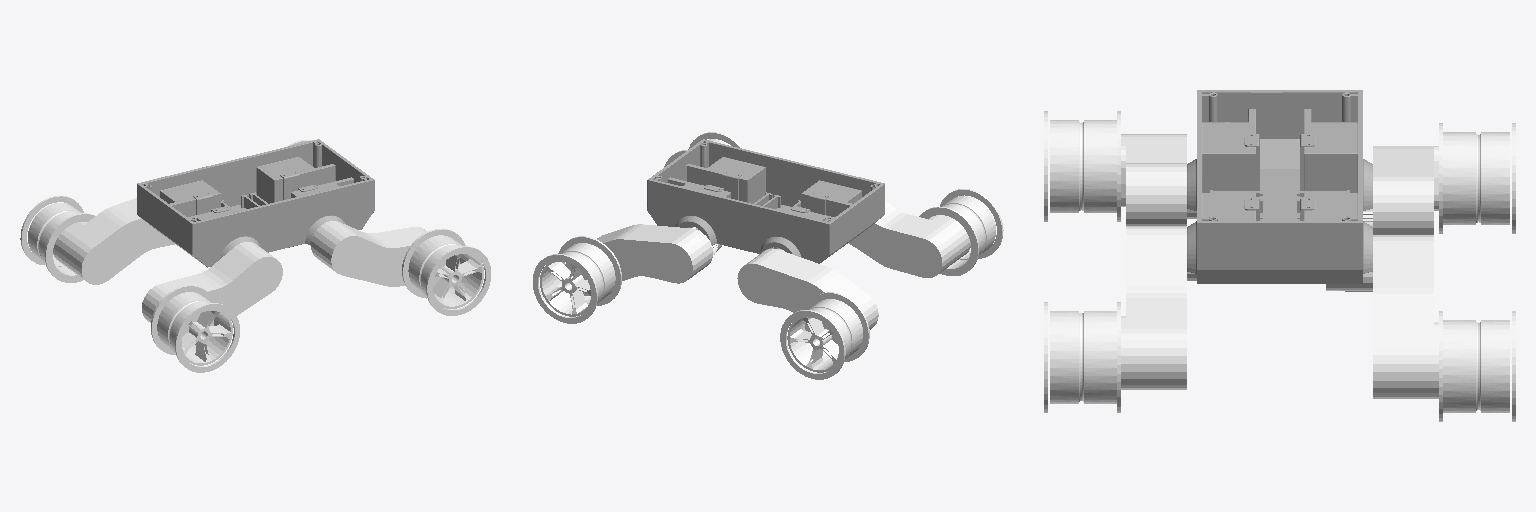
URDF robot description (Rover_5_URDF_MESHES.SLDASM):
<?xml version="1.0" encoding="utf-8"?>
<!-- This URDF was automatically created by SolidWorks to URDF Exporter! Originally created by [author] ([email redacted]) 
     Commit Version: 1.6.0-4-g7f85cfe  Build Version: 1.6.7995.38578
     For more information, please see http://wiki.ros.org/sw_urdf_exporter -->
<robot
  name="Rover_5_URDF_MESHES.SLDASM">
  <link
    name="base_link">
    <inertial>
      <origin
        xyz="0.00042066 0.025289 1.275E-07"
        rpy="0 0 0" />
      <mass
        value="0.23083" />
      <inertia
        ixx="0.00023965"
        ixy="1.2352E-06"
        ixz="2.1236E-09"
        iyy="0.00082819"
        iyz="-2.1159E-10"
        izz="0.0006395" />
    </inertial>
    <visual>
      <origin
        xyz="0 0 0"
        rpy="0 0 0" />
      <geometry>
        <mesh
          filename="package://Rover_5_URDF_MESHES.SLDASM/meshes/base_link.STL" />
      </geometry>
      <material
        name="">
        <color
          rgba="0.75294 0.75294 0.75294 1" />
      </material>
    </visual>
    <collision>
      <origin
        xyz="0 0 0"
        rpy="0 0 0" />
      <geometry>
        <mesh
          filename="package://Rover_5_URDF_MESHES.SLDASM/meshes/base_link.STL" />
      </geometry>
    </collision>
  </link>
  <link
    name="front_right_wheel_connector">
    <inertial>
      <origin
        xyz="-0.0414 -0.0024406 0.00050337"
        rpy="0 0 0" />
      <mass
        value="0.1526" />
      <inertia
        ixx="4.7307E-05"
        ixy="-3.6445E-07"
        ixz="3.0373E-05"
        iyy="0.00020097"
        iyz="1.8462E-07"
        izz="0.00018236" />
    </inertial>
    <visual>
      <origin
        xyz="0 0 0"
        rpy="0 0 0" />
      <geometry>
        <mesh
          filename="package://Rover_5_URDF_MESHES.SLDASM/meshes/front_right_wheel_connector.STL" />
      </geometry>
      <material
        name="">
        <color
          rgba="1 1 1 1" />
      </material>
    </visual>
    <collision>
      <origin
        xyz="0 0 0"
        rpy="0 0 0" />
      <geometry>
        <mesh
          filename="package://Rover_5_URDF_MESHES.SLDASM/meshes/front_right_wheel_connector.STL" />
      </geometry>
    </collision>
  </link>
  <joint
    name="base_link_to_right_wheel_connector"
    type="fixed">
    <origin
      xyz="-0.038432 0.0665 0.0015968"
      rpy="-1.5708 -0.2402 0" />
    <parent
      link="base_link" />
    <child
      link="front_right_wheel_connector" />
    <axis
      xyz="0 0 0" />
  </joint>
  <link
    name="front_right_wheel">
    <inertial>
      <origin
        xyz="3.6637E-11 2.8501E-11 -0.018857"
        rpy="0 0 0" />
      <mass
        value="0.016981" />
      <inertia
        ixx="6.6928E-06"
        ixy="1.5044E-14"
        ixz="2.1669E-14"
        iyy="6.6928E-06"
        iyz="-2.7239E-14"
        izz="9.0681E-06" />
    </inertial>
    <visual>
      <origin
        xyz="0 0 0"
        rpy="0 0 0" />
      <geometry>
        <mesh
          filename="package://Rover_5_URDF_MESHES.SLDASM/meshes/front_right_wheel.STL" />
      </geometry>
      <material
        name="">
        <color
          rgba="1 1 1 1" />
      </material>
    </visual>
    <collision>
      <origin
        xyz="0 0 0"
        rpy="0 0 0" />
      <geometry>
        <mesh
          filename="package://Rover_5_URDF_MESHES.SLDASM/meshes/front_right_wheel.STL" />
      </geometry>
    </collision>
  </link>
  <joint
    name="front_right_wheel_connector_to_front_right_wheel"
    type="continuous">
    <origin
      xyz="-0.08 0 0.0605"
      rpy="0 0 2.5298" />
    <parent
      link="front_right_wheel_connector" />
    <child
      link="front_right_wheel" />
    <axis
      xyz="0 0 0" />
  </joint>
  <link
    name="front_left_wheel_connector">
    <inertial>
      <origin
        xyz="-0.0414 -0.0024406 0.00050337"
        rpy="0 0 0" />
      <mass
        value="0.1526" />
      <inertia
        ixx="4.7307E-05"
        ixy="-3.6445E-07"
        ixz="3.0373E-05"
        iyy="0.00020097"
        iyz="1.8462E-07"
        izz="0.00018236" />
    </inertial>
    <visual>
      <origin
        xyz="0 0 0"
        rpy="0 0 0" />
      <geometry>
        <mesh
          filename="package://Rover_5_URDF_MESHES.SLDASM/meshes/front_left_wheel_connector.STL" />
      </geometry>
      <material
        name="">
        <color
          rgba="1 1 1 1" />
      </material>
    </visual>
    <collision>
      <origin
        xyz="0 0 0"
        rpy="0 0 0" />
      <geometry>
        <mesh
          filename="package://Rover_5_URDF_MESHES.SLDASM/meshes/front_left_wheel_connector.STL" />
      </geometry>
    </collision>
  </link>
  <joint
    name="base_link_to_front_left_wheel_connector"
    type="fixed">
    <origin
      xyz="-0.04 -0.0665 0.008"
      rpy="1.5708 -0.2402 0" />
    <parent
      link="base_link" />
    <child
      link="front_left_wheel_connector" />
    <axis
      xyz="0 0 0" />
  </joint>
  <link
    name="front_left_wheel">
    <inertial>
      <origin
        xyz="3.6637E-11 2.8501E-11 -0.018857"
        rpy="0 0 0" />
      <mass
        value="0.016981" />
      <inertia
        ixx="6.6928E-06"
        ixy="1.5044E-14"
        ixz="2.1669E-14"
        iyy="6.6928E-06"
        iyz="-2.7239E-14"
        izz="9.0681E-06" />
    </inertial>
    <visual>
      <origin
        xyz="0 0 0"
        rpy="0 0 0" />
      <geometry>
        <mesh
          filename="package://Rover_5_URDF_MESHES.SLDASM/meshes/front_left_wheel.STL" />
      </geometry>
      <material
        name="">
        <color
          rgba="1 1 1 1" />
      </material>
    </visual>
    <collision>
      <origin
        xyz="0 0 0"
        rpy="0 0 0" />
      <geometry>
        <mesh
          filename="package://Rover_5_URDF_MESHES.SLDASM/meshes/front_left_wheel.STL" />
      </geometry>
    </collision>
  </link>
  <joint
    name="front_left_wheel_connector_to_front_left_wheel"
    type="continuous">
    <origin
      xyz="-0.08 0 0.0605"
      rpy="0 0 3.0303" />
    <parent
      link="front_left_wheel_connector" />
    <child
      link="front_left_wheel" />
    <axis
      xyz="0 0 0" />
  </joint>
  <link
    name="back_right_wheel_connector">
    <inertial>
      <origin
        xyz="-0.0414 -0.0024406 -0.00050337"
        rpy="0 0 0" />
      <mass
        value="0.1526" />
      <inertia
        ixx="4.7307E-05"
        ixy="-3.6445E-07"
        ixz="-3.0373E-05"
        iyy="0.00020097"
        iyz="-1.8462E-07"
        izz="0.00018236" />
    </inertial>
    <visual>
      <origin
        xyz="0 0 0"
        rpy="0 0 0" />
      <geometry>
        <mesh
          filename="package://Rover_5_URDF_MESHES.SLDASM/meshes/back_right_wheel_connector.STL" />
      </geometry>
      <material
        name="">
        <color
          rgba="1 1 1 1" />
      </material>
    </visual>
    <collision>
      <origin
        xyz="0 0 0"
        rpy="0 0 0" />
      <geometry>
        <mesh
          filename="package://Rover_5_URDF_MESHES.SLDASM/meshes/back_right_wheel_connector.STL" />
      </geometry>
    </collision>
  </link>
  <joint
    name="base_link_to_back_right_wheel_connector"
    type="fixed">
    <origin
      xyz="0.038096 0.0665 0.0016884"
      rpy="-1.5708 -0.29297 3.1416" />
    <parent
      link="base_link" />
    <child
      link="back_right_wheel_connector" />
    <axis
      xyz="0 0 0" />
  </joint>
  <link
    name="back_right_wheel">
    <inertial>
      <origin
        xyz="3.6637E-11 2.8501E-11 -0.018857"
        rpy="0 0 0" />
      <mass
        value="0.016981" />
      <inertia
        ixx="6.6928E-06"
        ixy="1.5044E-14"
        ixz="2.1669E-14"
        iyy="6.6928E-06"
        iyz="-2.7239E-14"
        izz="9.0681E-06" />
    </inertial>
    <visual>
      <origin
        xyz="0 0 0"
        rpy="0 0 0" />
      <geometry>
        <mesh
          filename="package://Rover_5_URDF_MESHES.SLDASM/meshes/back_right_wheel.STL" />
      </geometry>
      <material
        name="">
        <color
          rgba="1 1 1 1" />
      </material>
    </visual>
    <collision>
      <origin
        xyz="0 0 0"
        rpy="0 0 0" />
      <geometry>
        <mesh
          filename="package://Rover_5_URDF_MESHES.SLDASM/meshes/back_right_wheel.STL" />
      </geometry>
    </collision>
  </link>
  <joint
    name="back_right_wheel_connector_to_back_right_wheel"
    type="continuous">
    <origin
      xyz="-0.08 0 -0.0605"
      rpy="3.1416 0 1.845" />
    <parent
      link="back_right_wheel_connector" />
    <child
      link="back_right_wheel" />
    <axis
      xyz="0 0 0" />
  </joint>
  <link
    name="back_left_wheel_connector">
    <inertial>
      <origin
        xyz="-0.0414 -0.0024406 -0.00050337"
        rpy="0 0 0" />
      <mass
        value="0.1526" />
      <inertia
        ixx="4.7307E-05"
        ixy="-3.6445E-07"
        ixz="-3.0373E-05"
        iyy="0.00020097"
        iyz="-1.8462E-07"
        izz="0.00018236" />
    </inertial>
    <visual>
      <origin
        xyz="0 0 0"
        rpy="0 0 0" />
      <geometry>
        <mesh
          filename="package://Rover_5_URDF_MESHES.SLDASM/meshes/back_left_wheel_connector.STL" />
      </geometry>
      <material
        name="">
        <color
          rgba="1 1 1 1" />
      </material>
    </visual>
    <collision>
      <origin
        xyz="0 0 0"
        rpy="0 0 0" />
      <geometry>
        <mesh
          filename="package://Rover_5_URDF_MESHES.SLDASM/meshes/back_left_wheel_connector.STL" />
      </geometry>
    </collision>
  </link>
  <joint
    name="base_link_to_back_left_wheel_connector"
    type="fixed">
    <origin
      xyz="0.04 -0.0665 0.008"
      rpy="1.5707963267949 -0.292974408119726 3.14159265358979" />
    <parent
      link="base_link" />
    <child
      link="back_left_wheel_connector" />
    <axis
      xyz="0 0 0" />
  </joint>
  <link
    name="back_left_wheel">
    <inertial>
      <origin
        xyz="3.6637E-11 2.8501E-11 -0.018857"
        rpy="0 0 0" />
      <mass
        value="0.016981" />
      <inertia
        ixx="6.6928E-06"
        ixy="1.5044E-14"
        ixz="2.1669E-14"
        iyy="6.6928E-06"
        iyz="-2.7239E-14"
        izz="9.0681E-06" />
    </inertial>
    <visual>
      <origin
        xyz="0 0 0"
        rpy="0 0 0" />
      <geometry>
        <mesh
          filename="package://Rover_5_URDF_MESHES.SLDASM/meshes/back_left_wheel.STL" />
      </geometry>
      <material
        name="">
        <color
          rgba="1 1 1 1" />
      </material>
    </visual>
    <collision>
      <origin
        xyz="0 0 0"
        rpy="0 0 0" />
      <geometry>
        <mesh
          filename="package://Rover_5_URDF_MESHES.SLDASM/meshes/back_left_wheel.STL" />
      </geometry>
    </collision>
  </link>
  <joint
    name="back_left_wheel_connector_to_back_left_wheel"
    type="continuous">
    <origin
      xyz="-0.08 0 -0.0605"
      rpy="3.1416 0 1.7173" />
    <parent
      link="back_left_wheel_connector" />
    <child
      link="back_left_wheel" />
    <axis
      xyz="0 0 0" />
  </joint>
</robot>

--- Facts derived from the render (not from the file) ---
Views: 3 orthographic renders of the robot side by side, from view 1: azimuth 30°, elevation 25°; view 2: azimuth 150°, elevation 25°; view 3: azimuth 270°, elevation 25°.
Model Rover_5_URDF_MESHES.SLDASM with 9 links and 8 joints (4 continuous, 4 fixed), rooted at base_link, posed all joints at 0.
Links seen in each view (by area): view 1: base_link, front_right_wheel_connector, back_left_wheel, front_left_wheel, back_left_wheel_connector, front_left_wheel_connector, front_right_wheel; view 2: base_link, front_right_wheel, back_right_wheel, front_left_wheel_connector, front_right_wheel_connector, back_right_wheel_connector, front_left_wheel; view 3: base_link, back_right_wheel_connector, back_left_wheel_connector, front_right_wheel, front_left_wheel, back_left_wheel, back_right_wheel, front_left_wheel_connector, front_right_wheel_connector.
Boxes of the visible links, x1,y1,x2,y2 form: base_link: (137, 139, 374, 267); front_right_wheel_connector: (53, 198, 174, 284); back_left_wheel: (402, 229, 490, 315); front_left_wheel: (151, 285, 239, 372); back_left_wheel_connector: (310, 221, 459, 286); front_left_wheel_connector: (142, 242, 282, 335); front_right_wheel: (20, 196, 94, 282); base_link: (647, 139, 884, 263); front_right_wheel: (780, 292, 869, 379); back_right_wheel: (533, 236, 621, 323); front_left_wheel_connector: (849, 200, 970, 277); front_right_wheel_connector: (737, 248, 878, 343); back_right_wheel_connector: (565, 224, 721, 295); front_left_wheel: (919, 189, 1003, 275); base_link: (1187, 90, 1372, 283); back_right_wheel_connector: (1326, 235, 1438, 398); back_left_wheel_connector: (1121, 226, 1196, 389); front_right_wheel: (1439, 123, 1515, 233); front_left_wheel: (1044, 111, 1120, 221); back_left_wheel: (1044, 302, 1120, 412); back_right_wheel: (1439, 311, 1515, 421); front_left_wheel_connector: (1121, 134, 1196, 225); front_right_wheel_connector: (1363, 146, 1438, 234).
Size in the robot's own frame: 0.2943 by 0.254 by 0.1014 metres.
9 mesh visuals loaded from 9 distinct referenced files (9 binary STL).